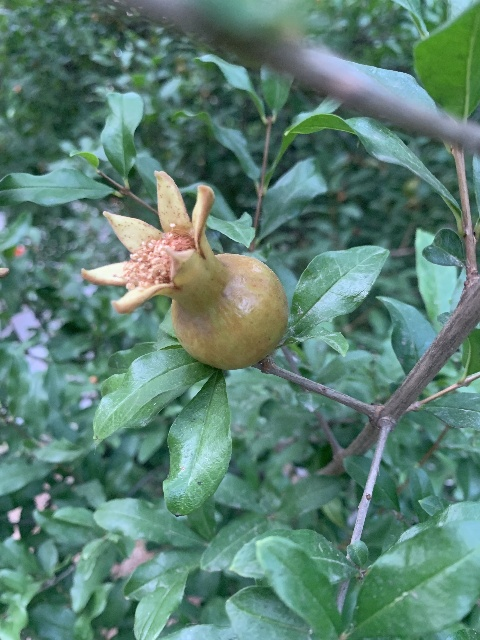early-fruit: (81, 169, 287, 370)
